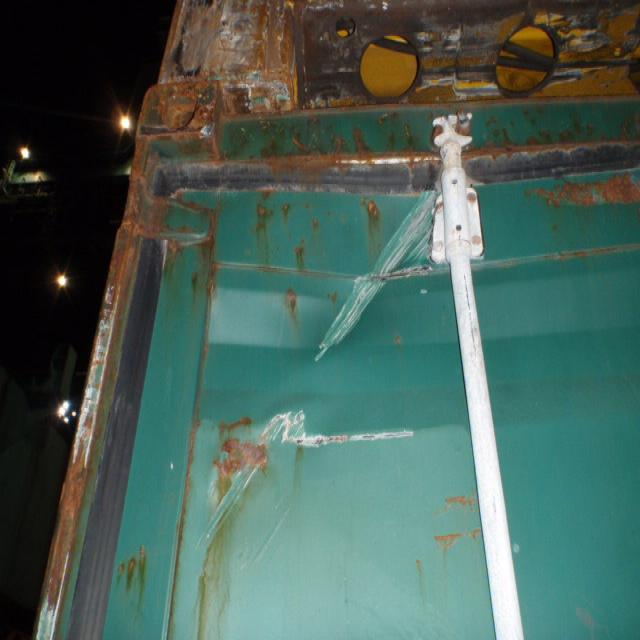dent: (230, 287, 409, 434)
